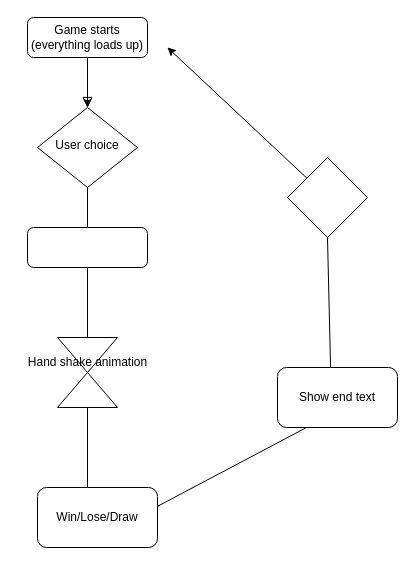
Some shapes in this 415 by 565 pixel diagram are drawn without their labels. The box of each missing label's shape, as (x1, y1, x2, y2) in pixels:
Computer choice (randomized): (26, 226, 148, 268)
Retry: (286, 156, 368, 238)
